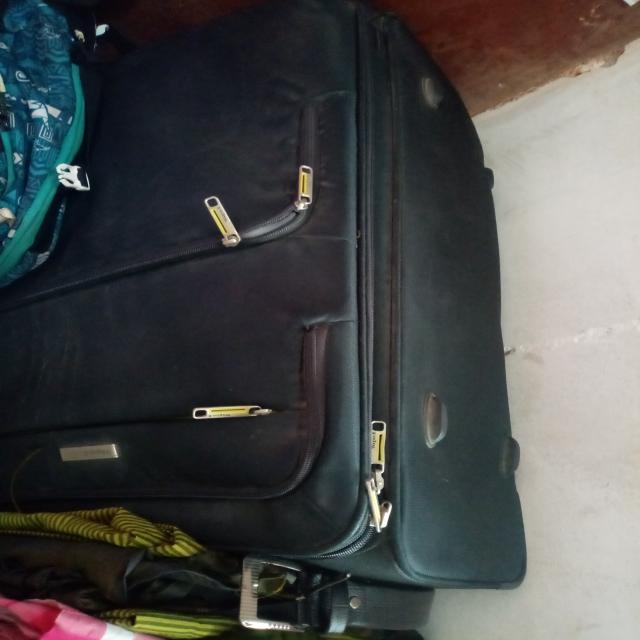suitcaserotation: (0, 0, 529, 594), (0, 0, 116, 289)
